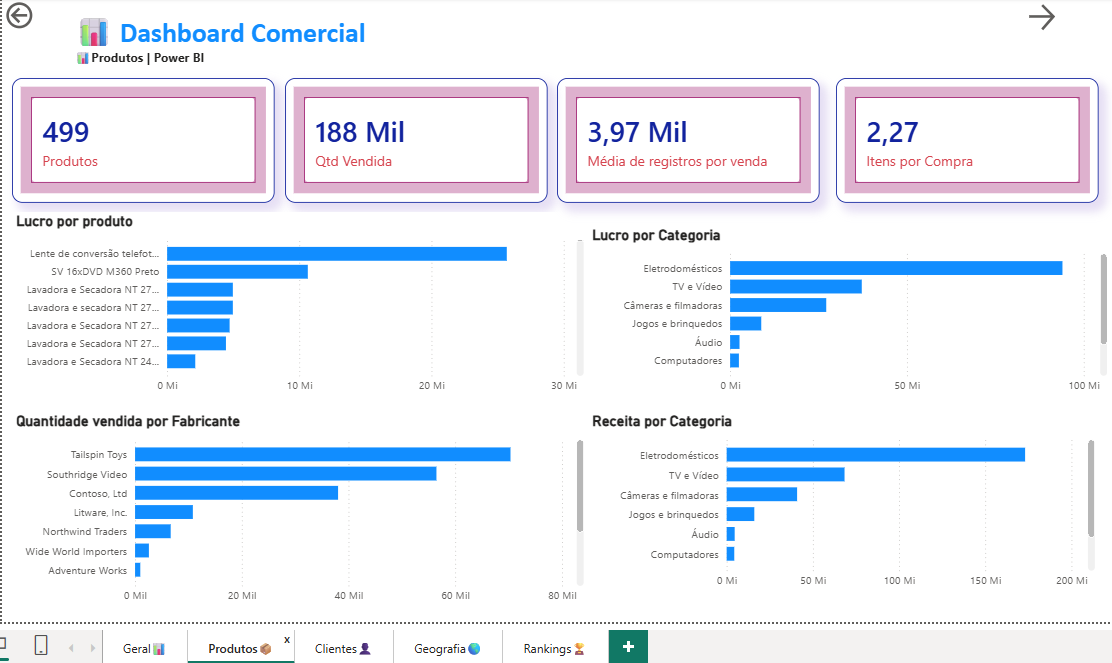

The page's visual inventory and layout, read from the dashboard file:
{"tool":"powerbi","page":{"name":"Produtos📦","canvas":[1280,720],"ordinal":1},"visuals":[{"type":"textbox","box":[79.6,10.4,375,83.1],"z":0},{"type":"cardVisual","fields":{"Data":["BaseVendas.Produtos"]},"box":[11.5,92.6,303.3,143.9],"z":1000},{"type":"cardVisual","fields":{"Data":["BaseVendas.Qtd Vendida"]},"box":[326.5,92.6,303.3,143.9],"z":2000},{"type":"clusteredBarChart","title":"Lucro por produto","fields":{"Category":["BaseVendas.Nome Produto"],"Y":["Sum(BaseVendas.Lucro)"]},"box":[11.5,246.9,664.6,218.1],"z":3000},{"type":"clusteredBarChart","title":"Receita por Categoria","fields":{"Category":["BaseVendas.Categoria"],"Y":["BaseVendas.Receita Total"]},"box":[676,478.1,589.9,212],"z":4000},{"type":"clusteredBarChart","title":"Lucro por Categoria","fields":{"Category":["BaseVendas.Categoria"],"Y":["BaseVendas.Lucro Total"]},"box":[676,263.5,604,201.8],"z":5000},{"type":"clusteredBarChart","title":"Quantidade vendida por Fabricante","fields":{"Category":["BaseVendas.Fabricante"],"Y":["BaseVendas.Qtd Vendida"]},"box":[11.5,477.7,664.6,229.6],"z":6000},{"type":"cardVisual","fields":{"Data":["BaseVendas.Itens por Compra"]},"box":[962.3,92.6,303.3,143.9],"z":7000},{"type":"actionButton","box":[0,0,100,40],"z":8000},{"type":"cardVisual","fields":{"Data":["BaseVendas.Ticket Médio"]},"box":[640.4,92.6,303.3,143.9],"z":9000},{"type":"actionButton","box":[1179.2,2.3,100,40],"z":9001}]}

Visuals, with their boxes on the page's 1280x720 design canvas (x1, y1, x2, y2). These are canvas units, not pixel positions in the 1112x663 screenshot, which may show the page scaled, cropped or inside an application window:
textbox: bbox=(80, 10, 455, 94)
cardVisual - BaseVendas.Produtos: bbox=(12, 93, 315, 236)
cardVisual - BaseVendas.Qtd Vendida: bbox=(326, 93, 630, 236)
"Lucro por produto" clusteredBarChart: bbox=(12, 247, 676, 465)
"Receita por Categoria" clusteredBarChart: bbox=(676, 478, 1266, 690)
"Lucro por Categoria" clusteredBarChart: bbox=(676, 264, 1280, 465)
"Quantidade vendida por Fabricante" clusteredBarChart: bbox=(12, 478, 676, 707)
cardVisual - BaseVendas.Itens por Compra: bbox=(962, 93, 1266, 236)
actionButton: bbox=(0, 0, 100, 40)
cardVisual - BaseVendas.Ticket Médio: bbox=(640, 93, 944, 236)
actionButton: bbox=(1179, 2, 1279, 42)
